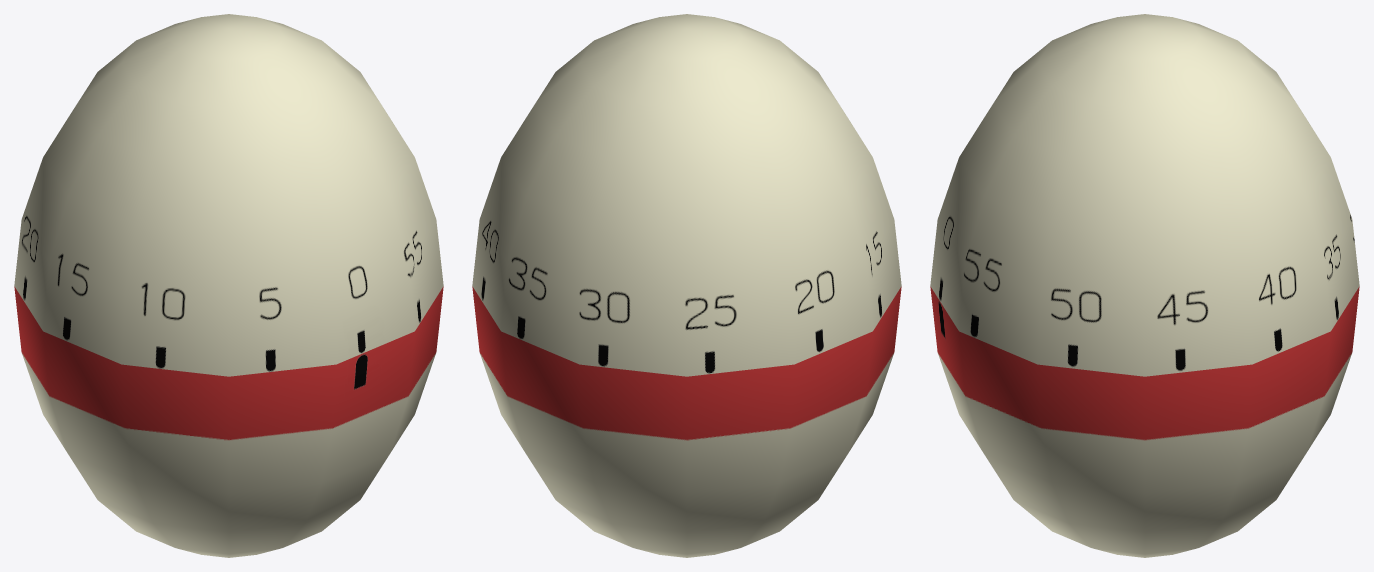
File: EggTImer_Mesh_Animation.fbx
The picture shows the model from 3 angles, left to right: view 1: azimuth 30°, elevation 25°; view 2: azimuth 150°, elevation 25°; view 3: azimuth 270°, elevation 25°; orthographic projection.
Visible parts, largest first — view 1: mesh_eggtimer_01, mesh_eggtimer_02; view 2: mesh_eggtimer_01, mesh_eggtimer_02; view 3: mesh_eggtimer_01, mesh_eggtimer_02.
Boxes of the visible parts, x1=… form: mesh_eggtimer_01: x1=14, y1=14, x2=443, y2=376; mesh_eggtimer_02: x1=14, y1=286, x2=443, y2=557; mesh_eggtimer_01: x1=472, y1=14, x2=901, y2=376; mesh_eggtimer_02: x1=472, y1=286, x2=901, y2=557; mesh_eggtimer_01: x1=930, y1=14, x2=1359, y2=376; mesh_eggtimer_02: x1=930, y1=286, x2=1359, y2=557.
Size of the model in its own units: 51.63 by 68.27 by 51.63.
Materials: 1 (1 with a texture image).
